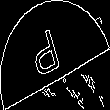P_S: (36, 25, 74, 85)
